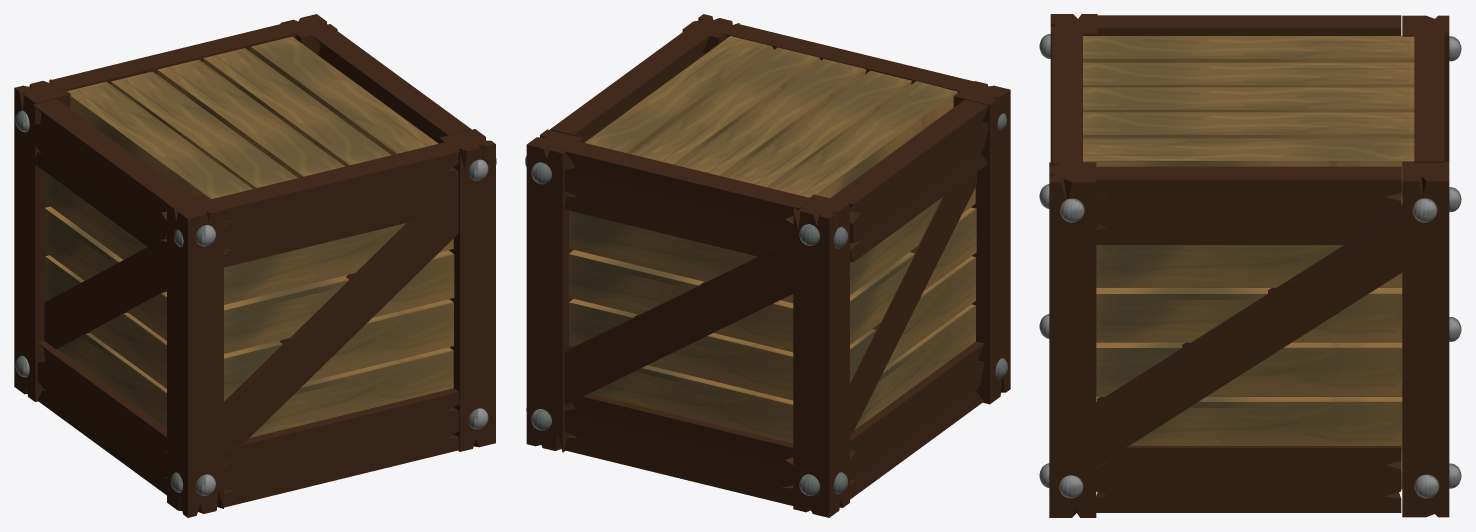
The model's file is CargoBoxSunken.glb.
3 views of the same model, side by side, from view 1: azimuth 30°, elevation 25°; view 2: azimuth 150°, elevation 25°; view 3: azimuth 270°, elevation 25° (orthographic). The views are drawn at different scales.
Parts seen in each view (by area): view 1: Cube.005, Cube.002, Sphere; view 2: Cube.005, Cube.002, Sphere; view 3: Cube.005, Cube.002, Sphere.
Boxes of the visible parts, x1,y1,x2,y2 form: Cube.005: (14, 14, 495, 517); Cube.002: (44, 36, 454, 492); Sphere: (15, 110, 496, 495); Cube.005: (526, 14, 1010, 517); Cube.002: (568, 36, 976, 443); Sphere: (525, 113, 1007, 495); Cube.005: (1049, 14, 1449, 517); Cube.002: (1083, 36, 1414, 489); Sphere: (1039, 34, 1461, 498).
Bounding box in the file's own units: 2.32 × 2.07 × 2.35.
Materials: 3 (3 with a texture image).
